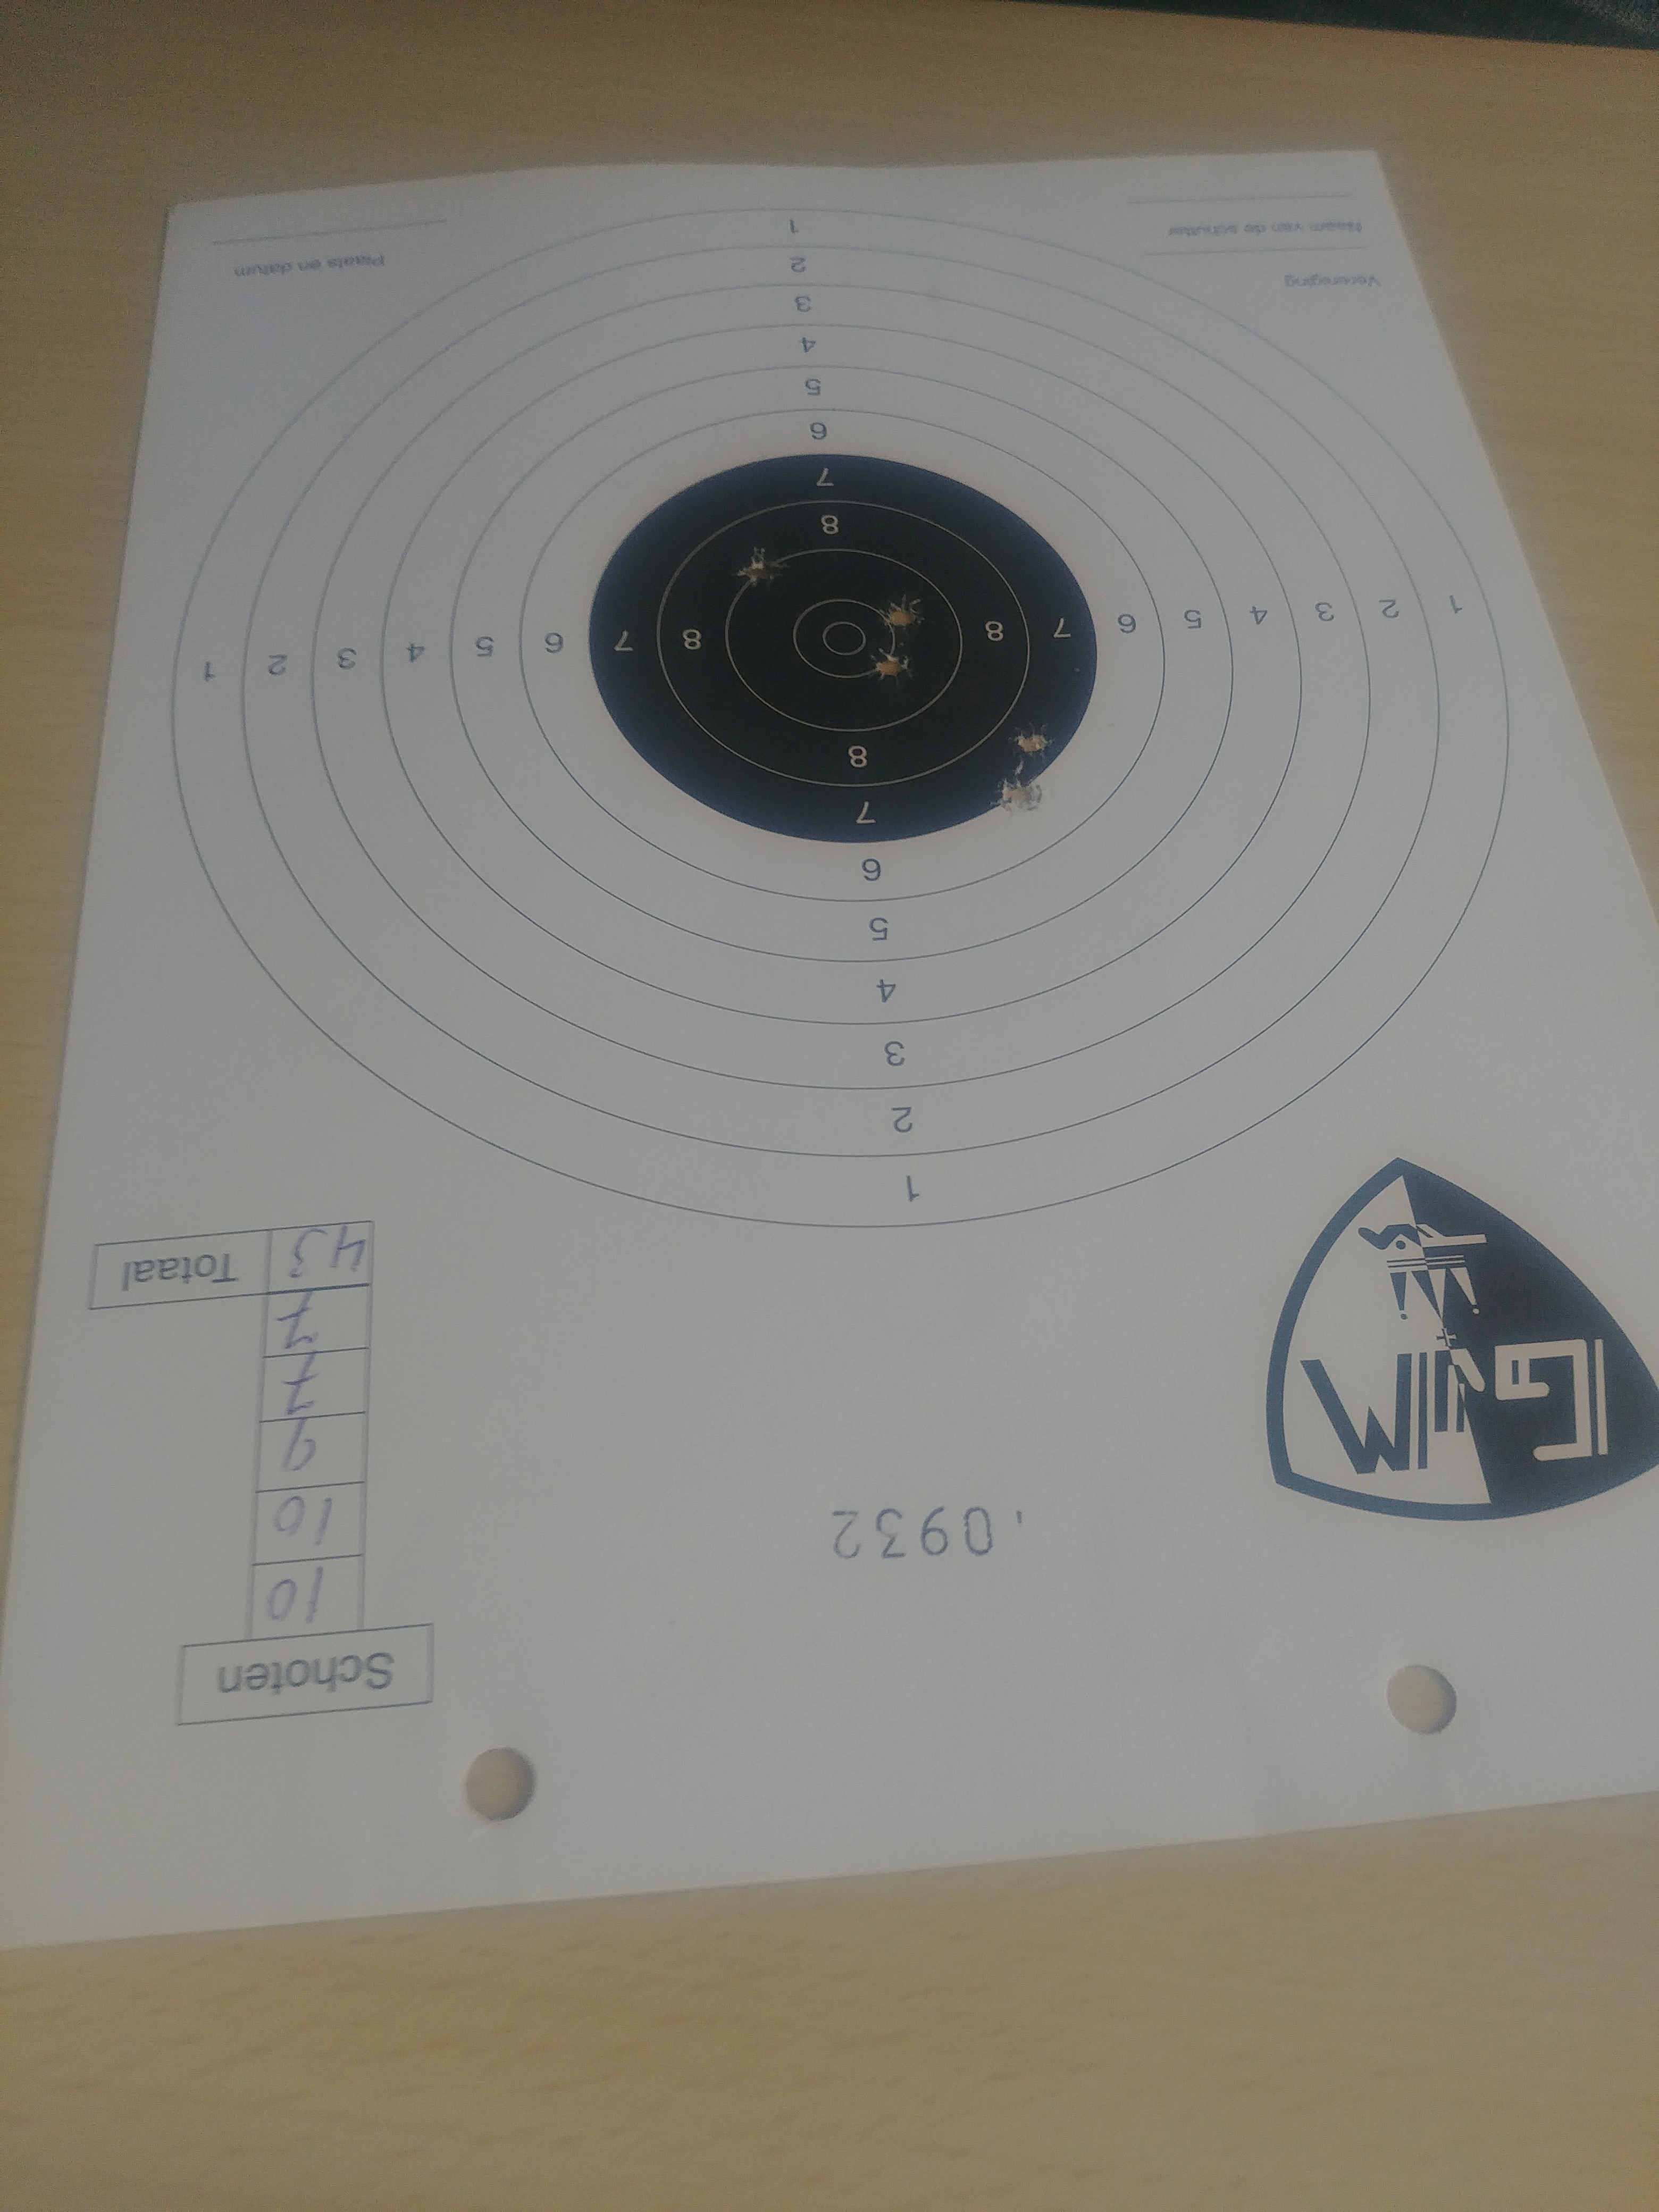center: (587, 453, 1100, 846)
out: (164, 202, 1514, 1233)
shot: (992, 766, 1046, 819), (735, 547, 784, 589), (877, 592, 925, 631), (866, 644, 915, 681), (1014, 723, 1051, 759)
target: (791, 597, 896, 679)
